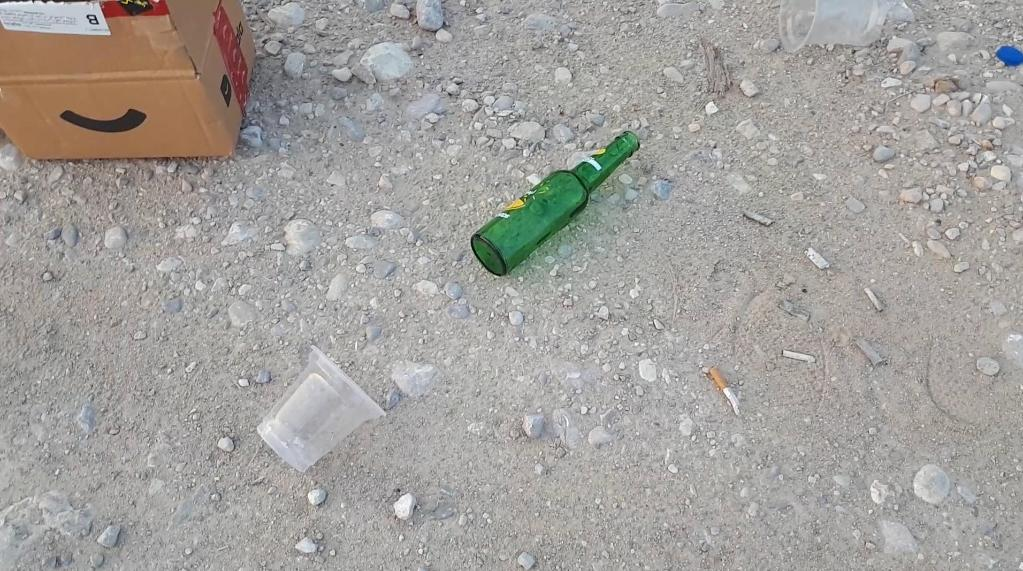garbage: (0, 0, 265, 191), (470, 129, 655, 282), (471, 130, 641, 276)
